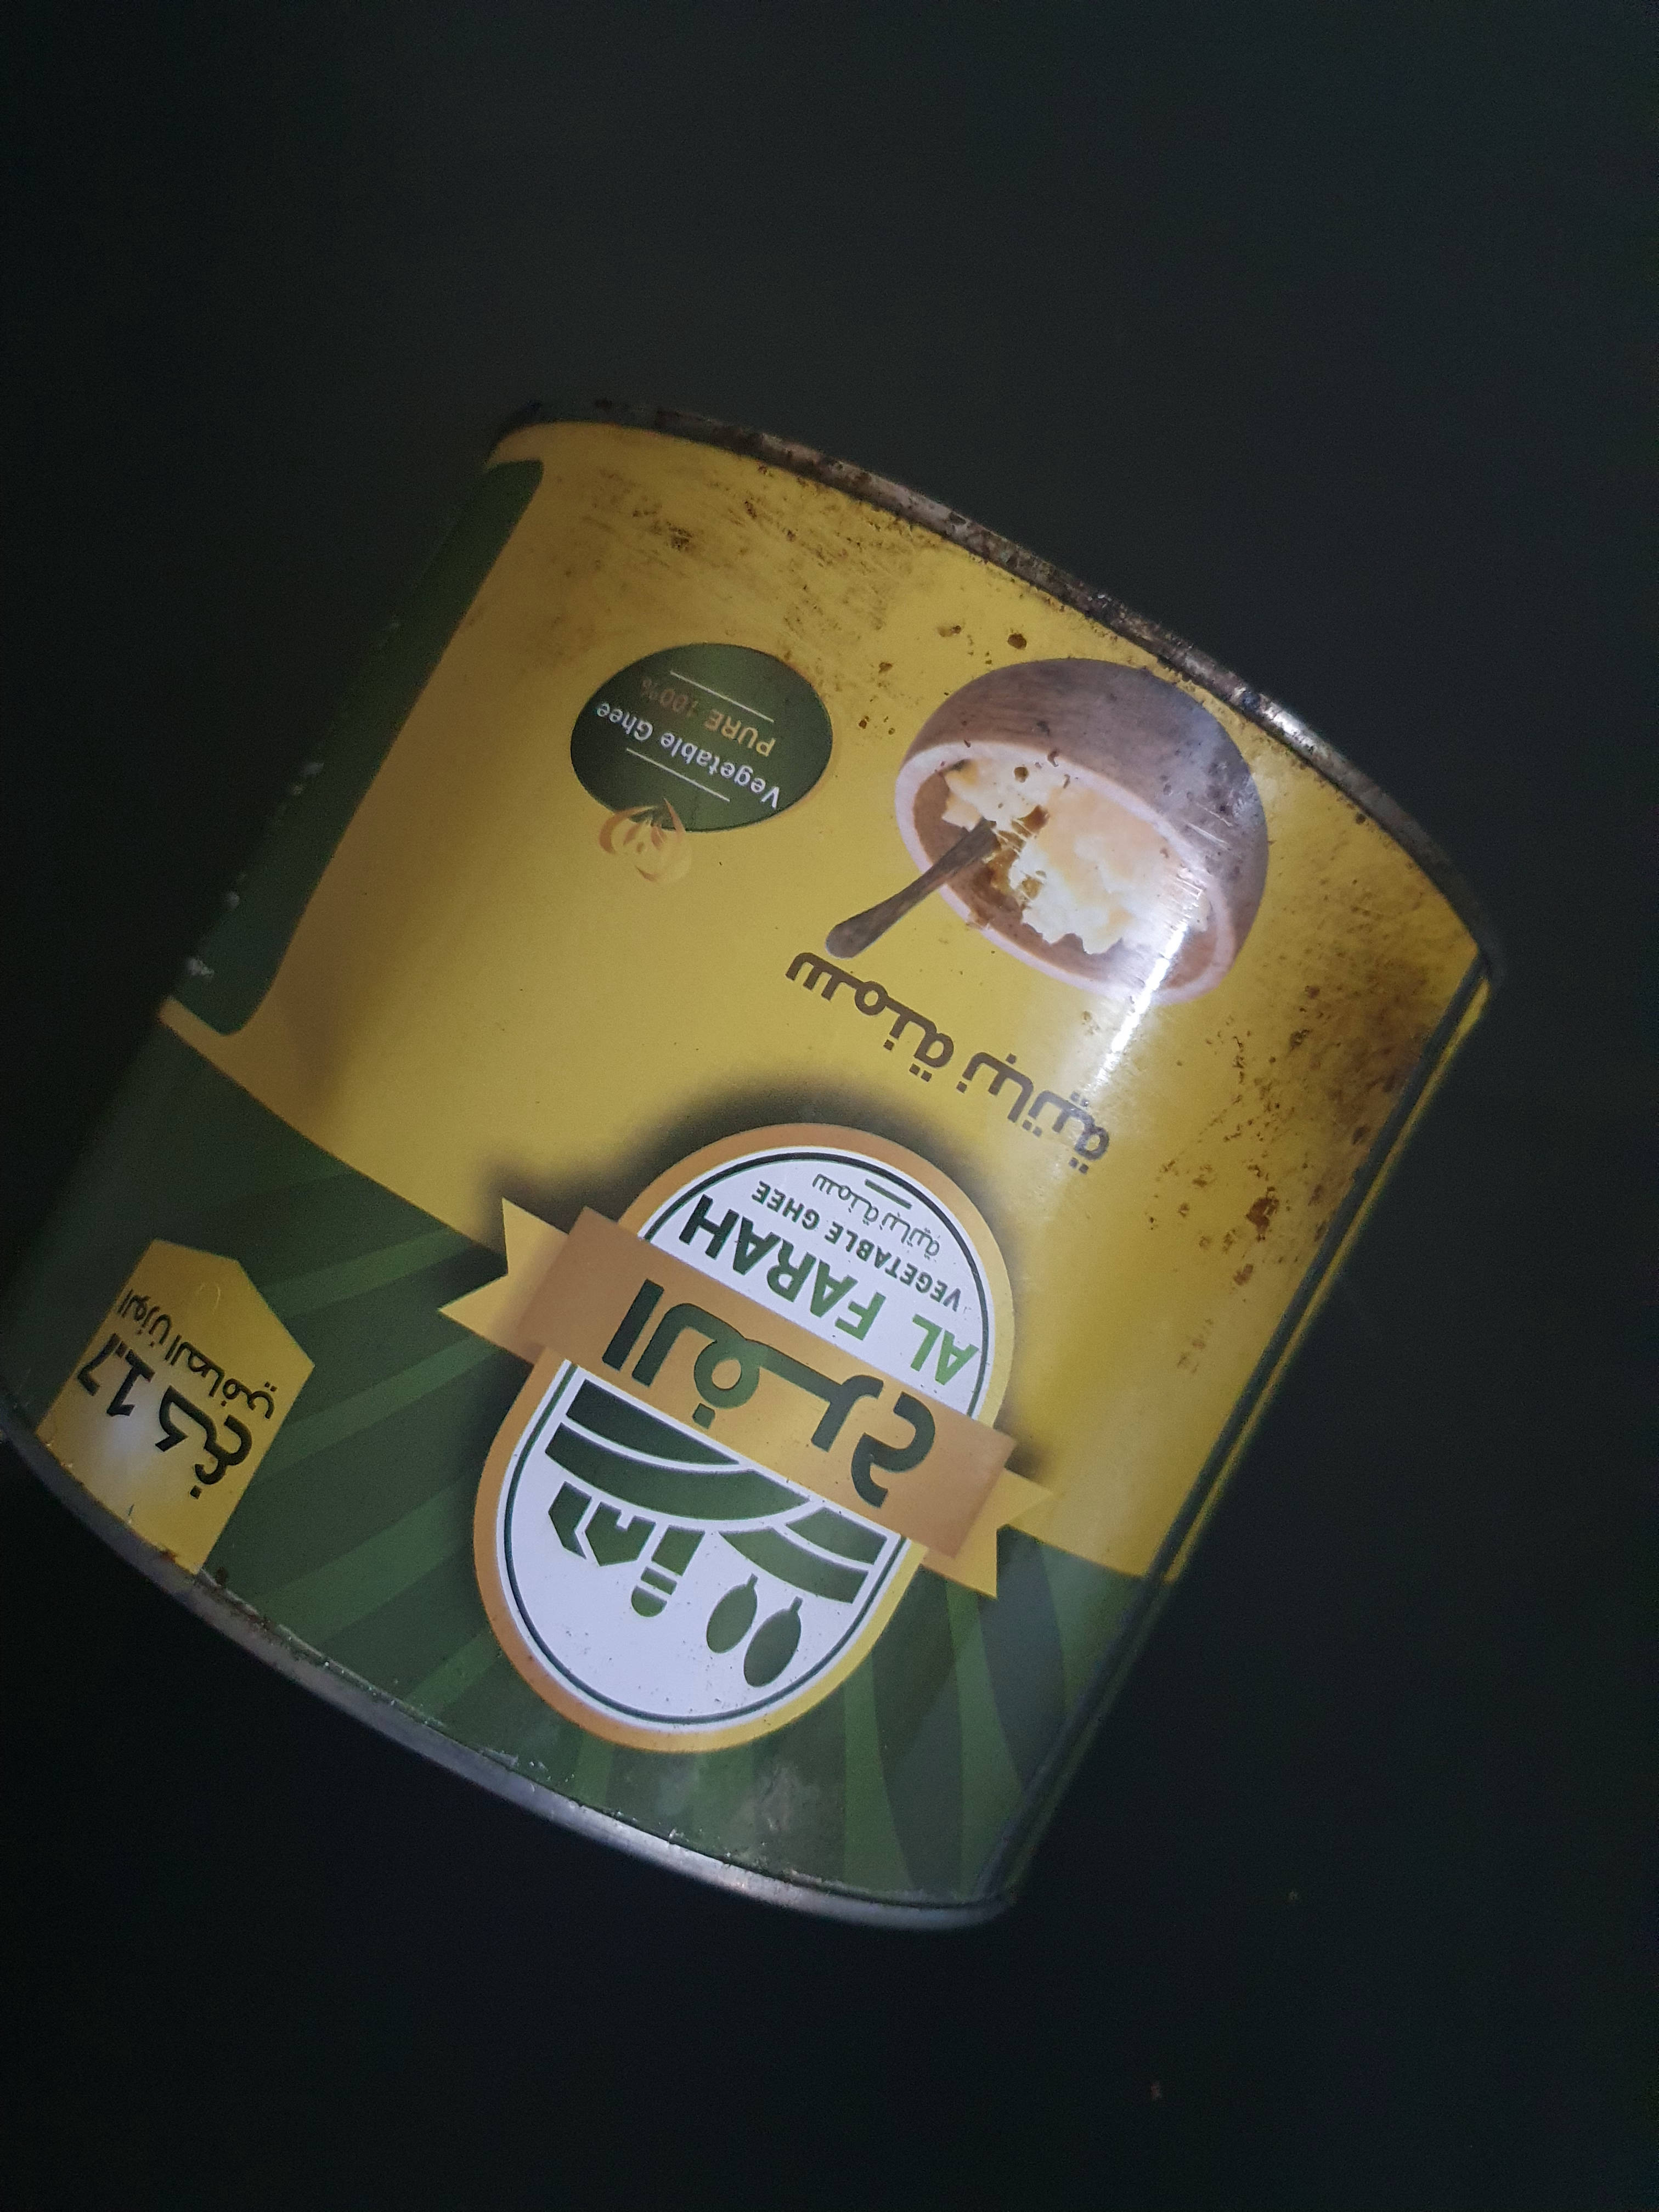metal: (3, 314, 1523, 1989)
